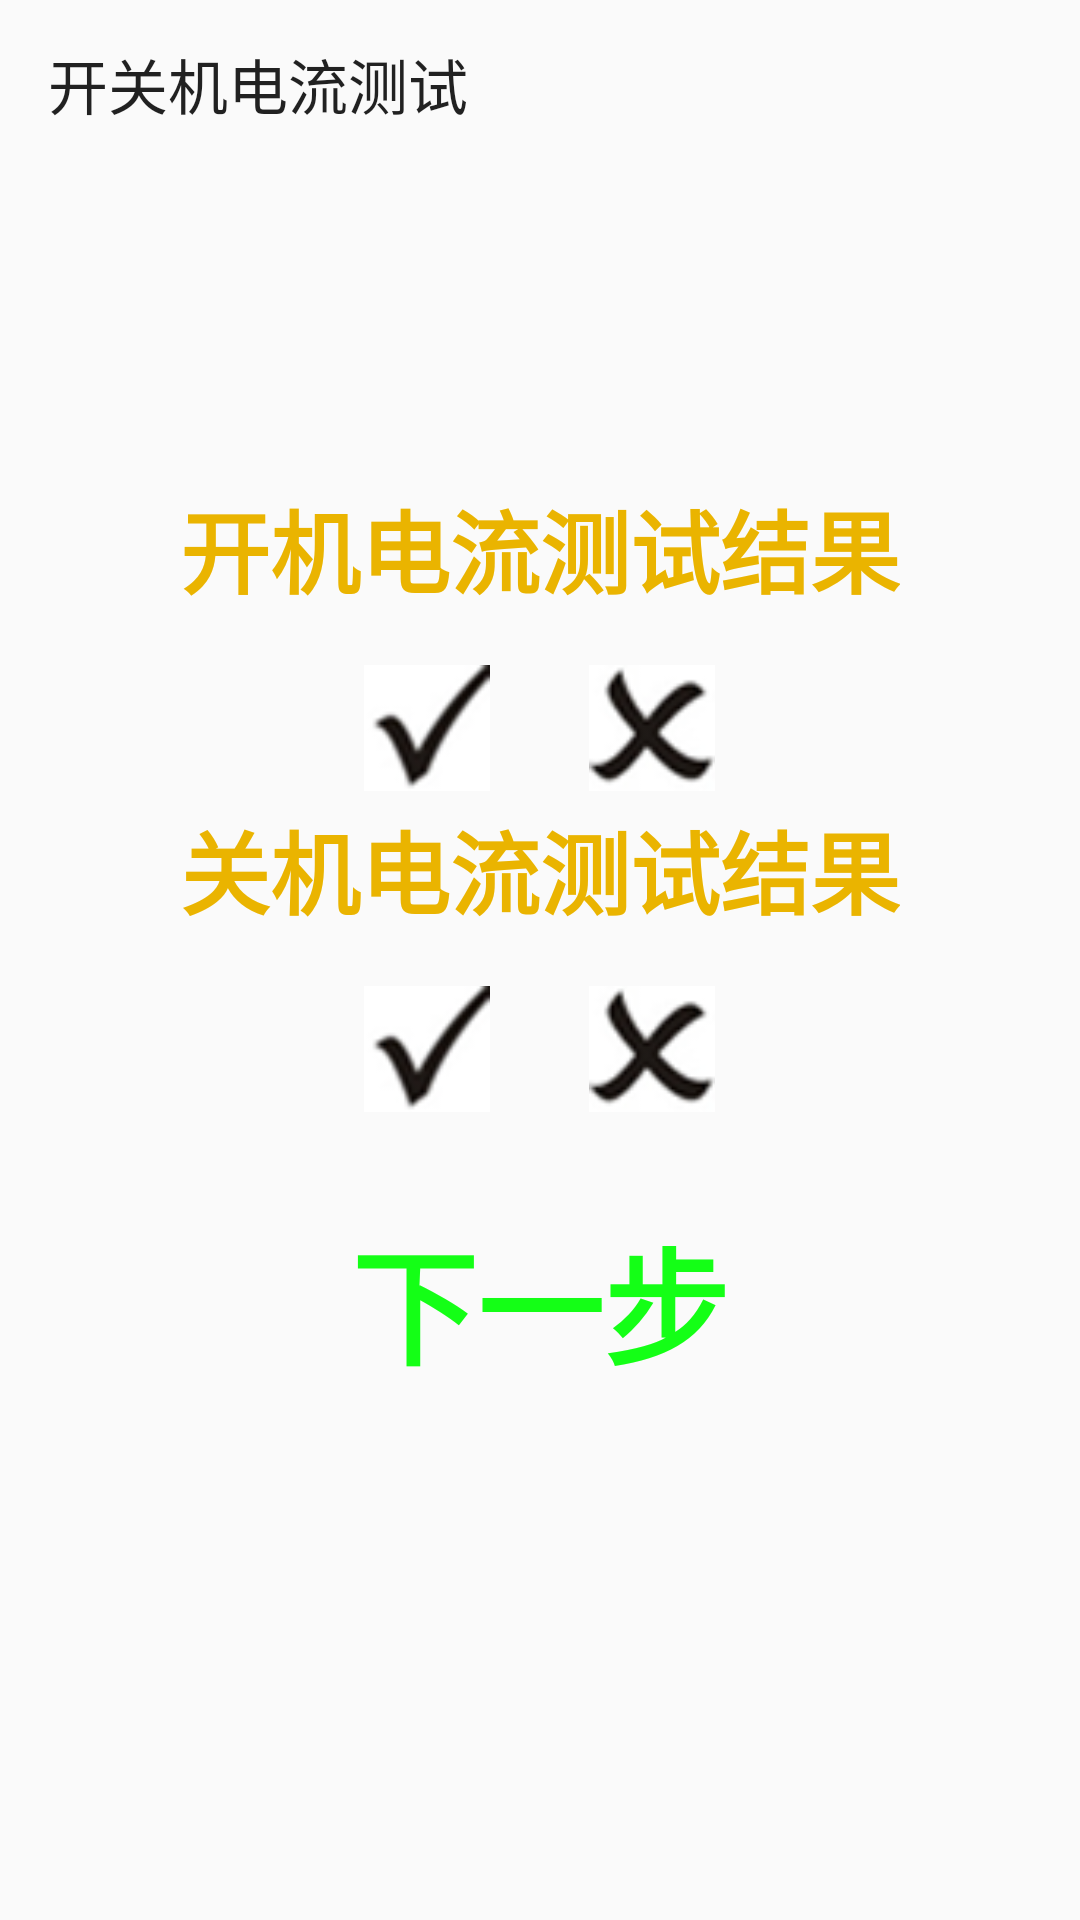

Screen size 1080*1920. Icon name, then its center in pixels as (x,y):
check cross: (651,726), (651,1047)
check ok: (432,725), (432,1046)
